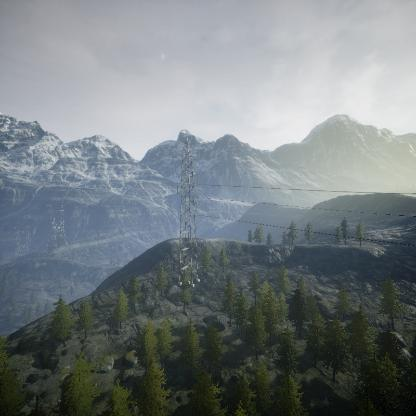tower: (173, 133, 205, 292)
